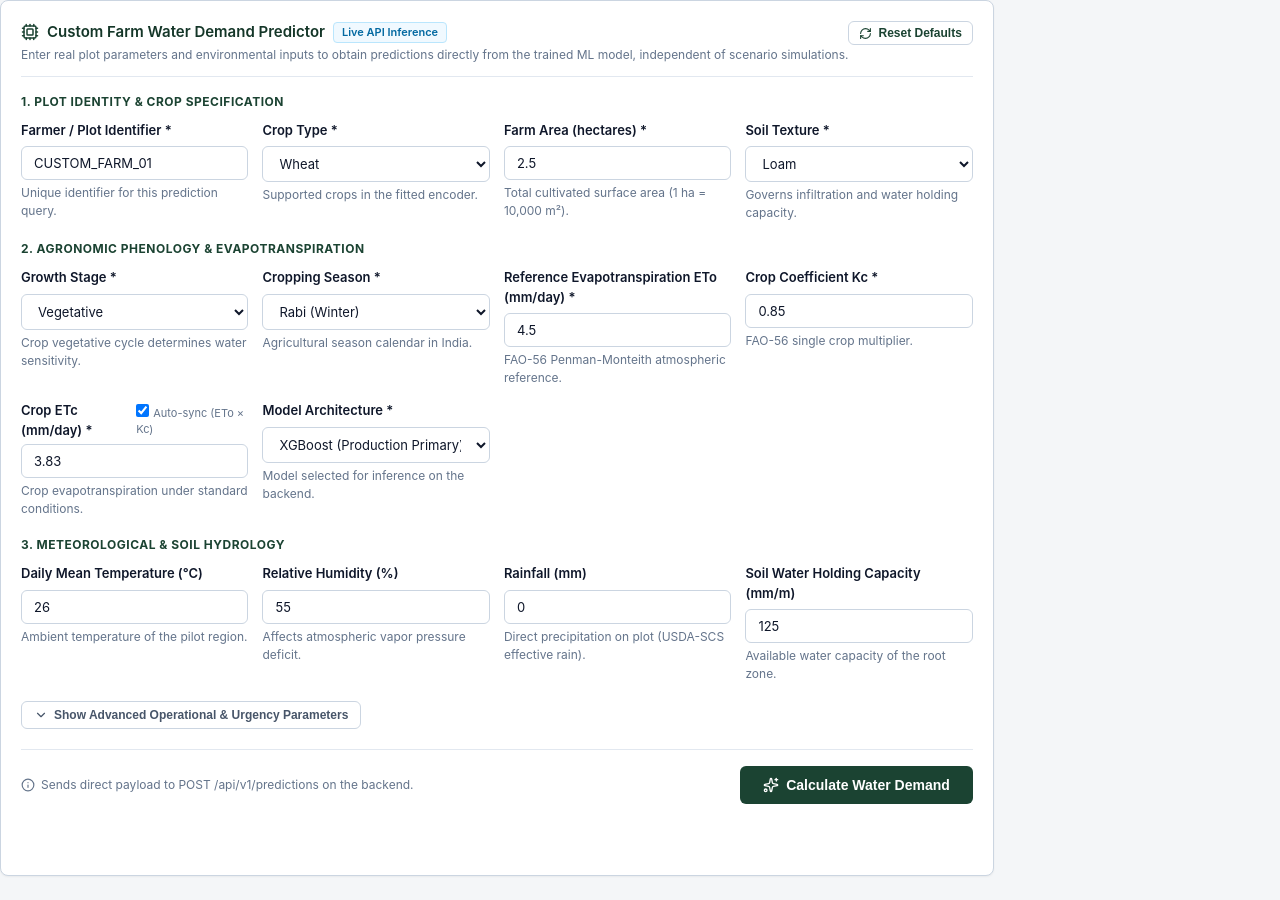
Test: CustomFarmPredictor Component & Phase 14 UI Flow › 7. displays error alert when API request fails and does not invent mock fallback data
Click the button "Calculate Water Demand": x=856, y=785 x1=740 y1=766 x2=973 y2=804
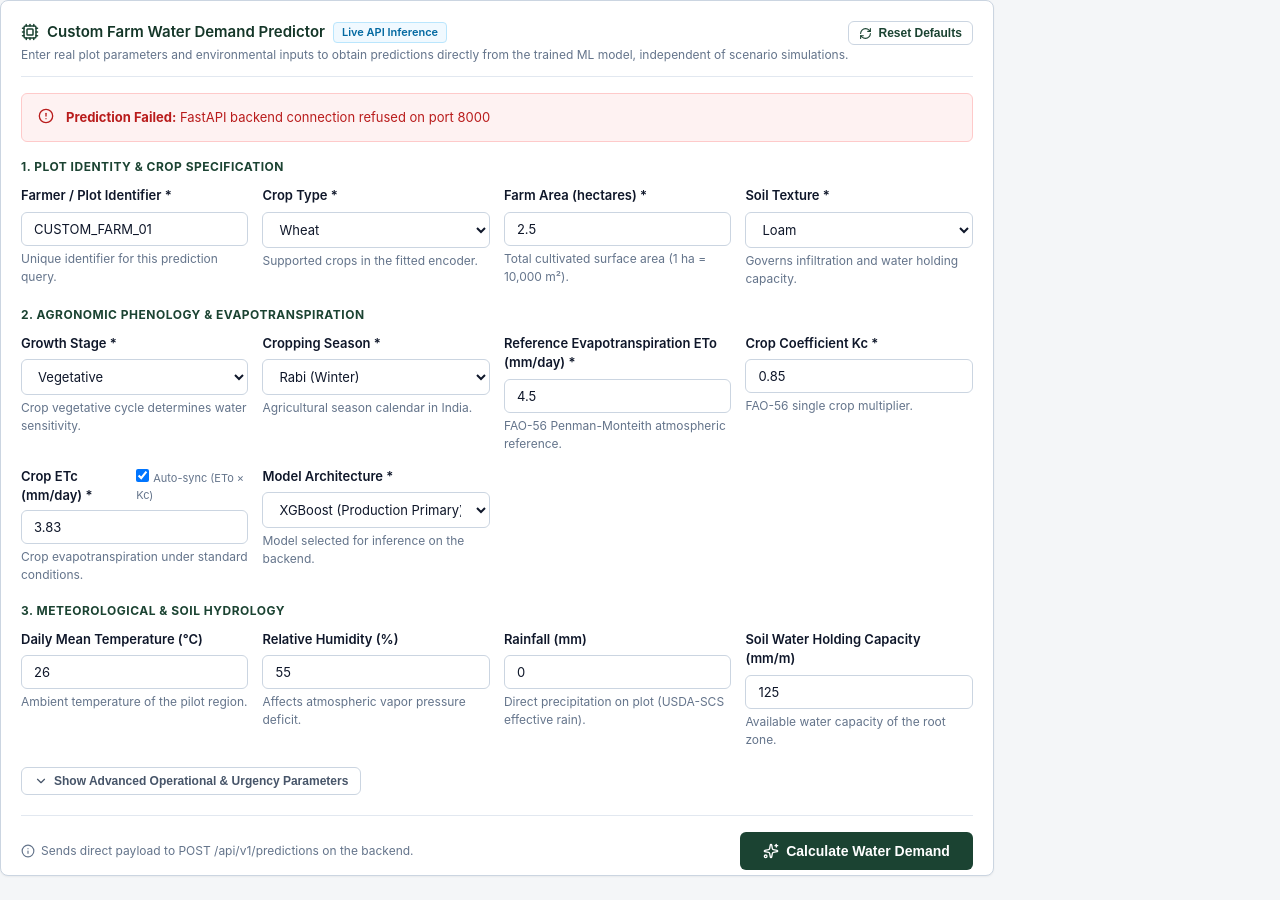
Now the text "FastAPI backend connection refused on port 8000" is shown, box x1=180 y1=108 x2=490 y2=124
